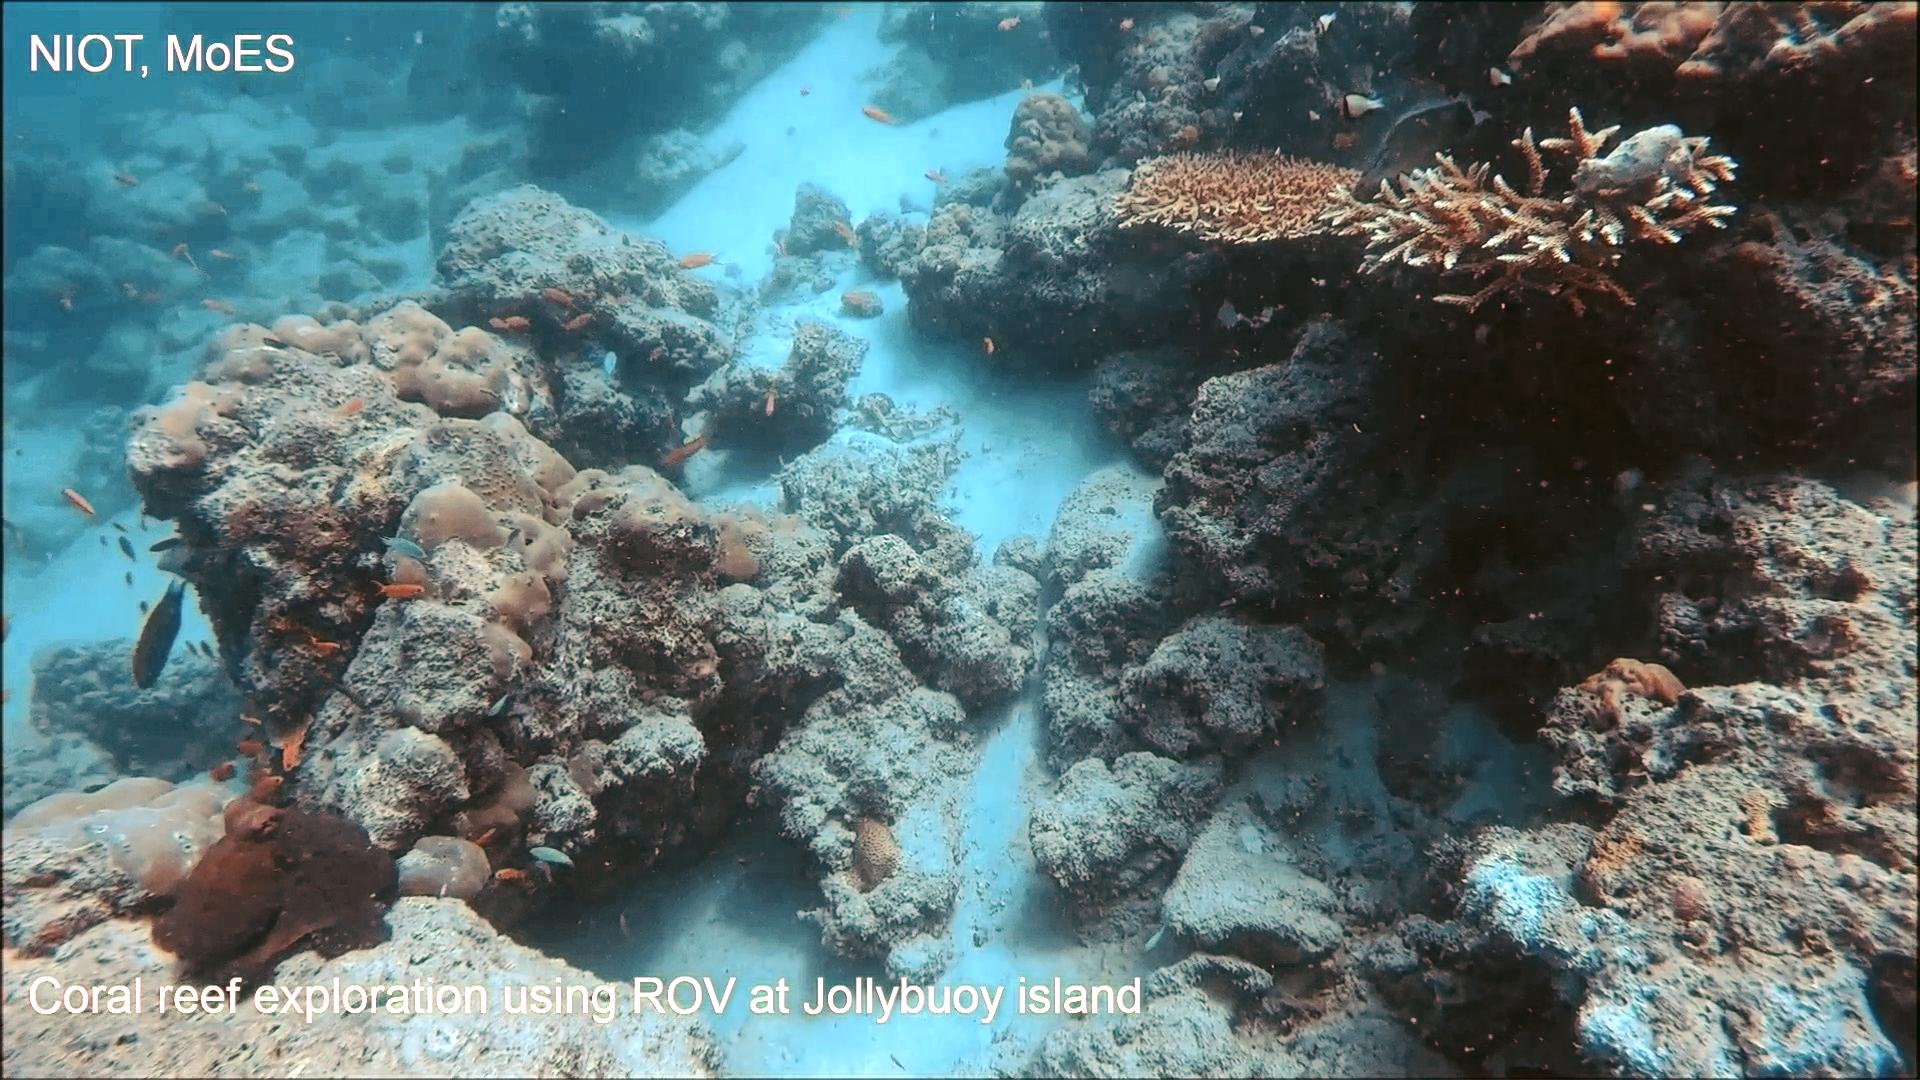Porites-Porites pukoensis: (360, 293, 621, 690)
